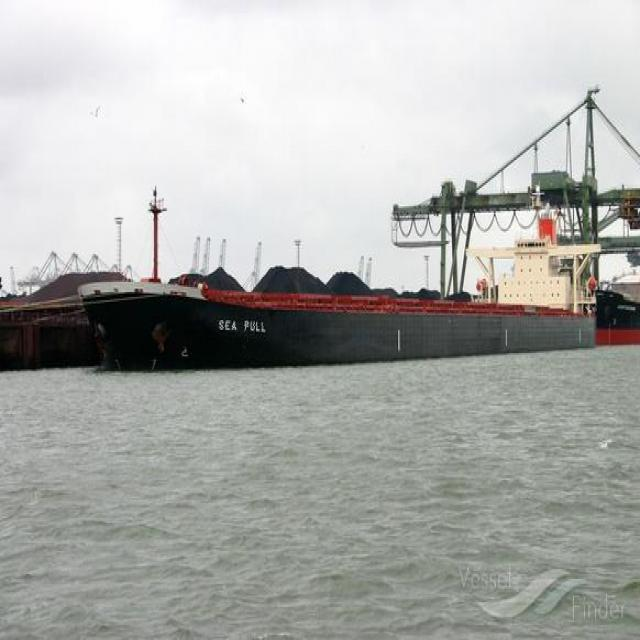OCR: (209, 312, 270, 350)
